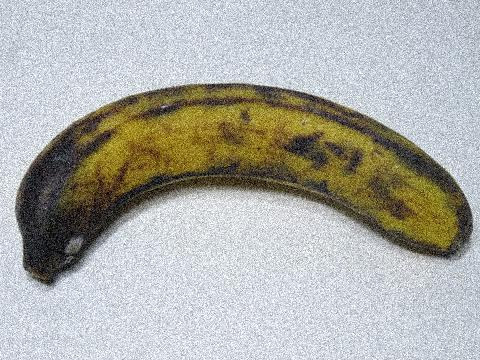overripe: (3, 72, 479, 320)
rotten: (7, 134, 143, 288)
